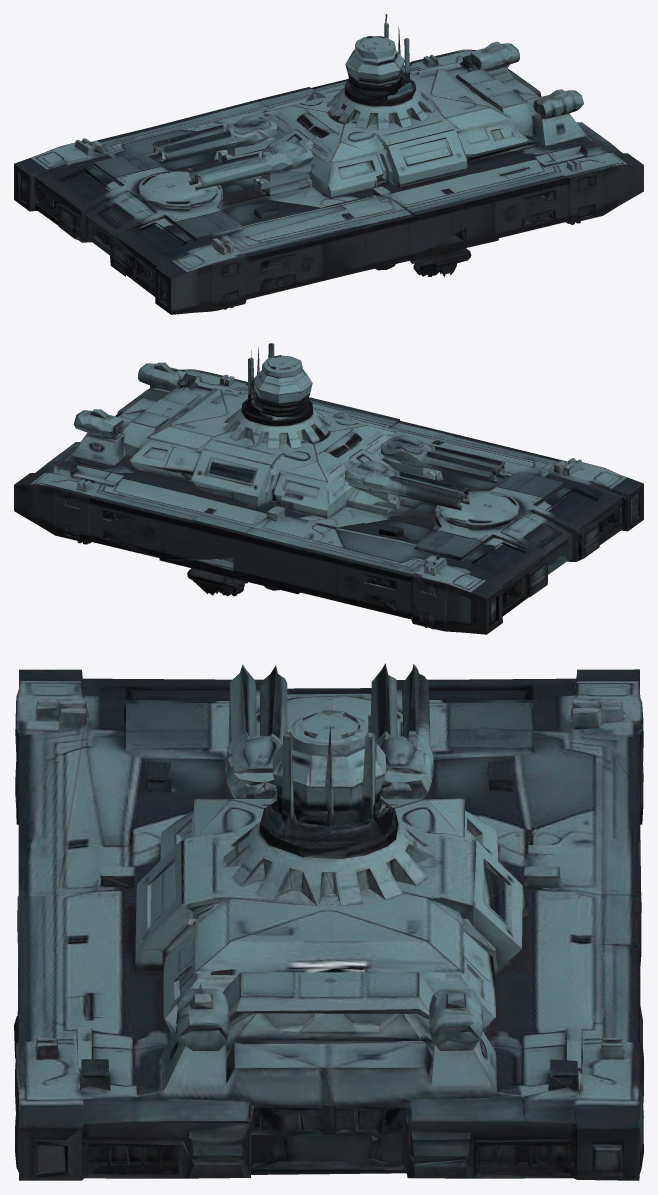
Rendered from enemy-ferrum-fortress.glb.
3 views of the same model, one above another, from view 1: azimuth 30°, elevation 25°; view 2: azimuth 150°, elevation 25°; view 3: azimuth 270°, elevation 25° (orthographic). The views are drawn at different scales.
Bounding box in the file's own units: 1.9 × 0.7994 × 1.11.
Materials: 1 (1 with a texture image).
